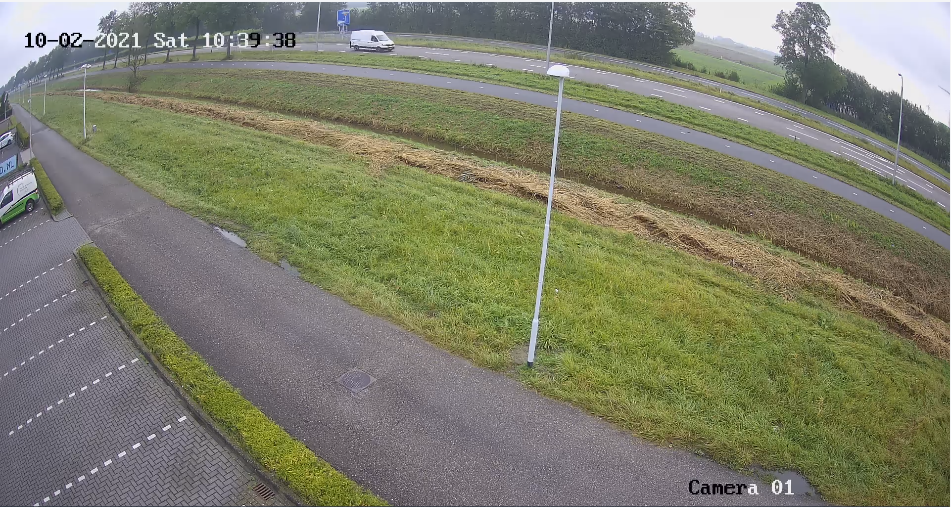werkbus: (343, 26, 402, 53)
